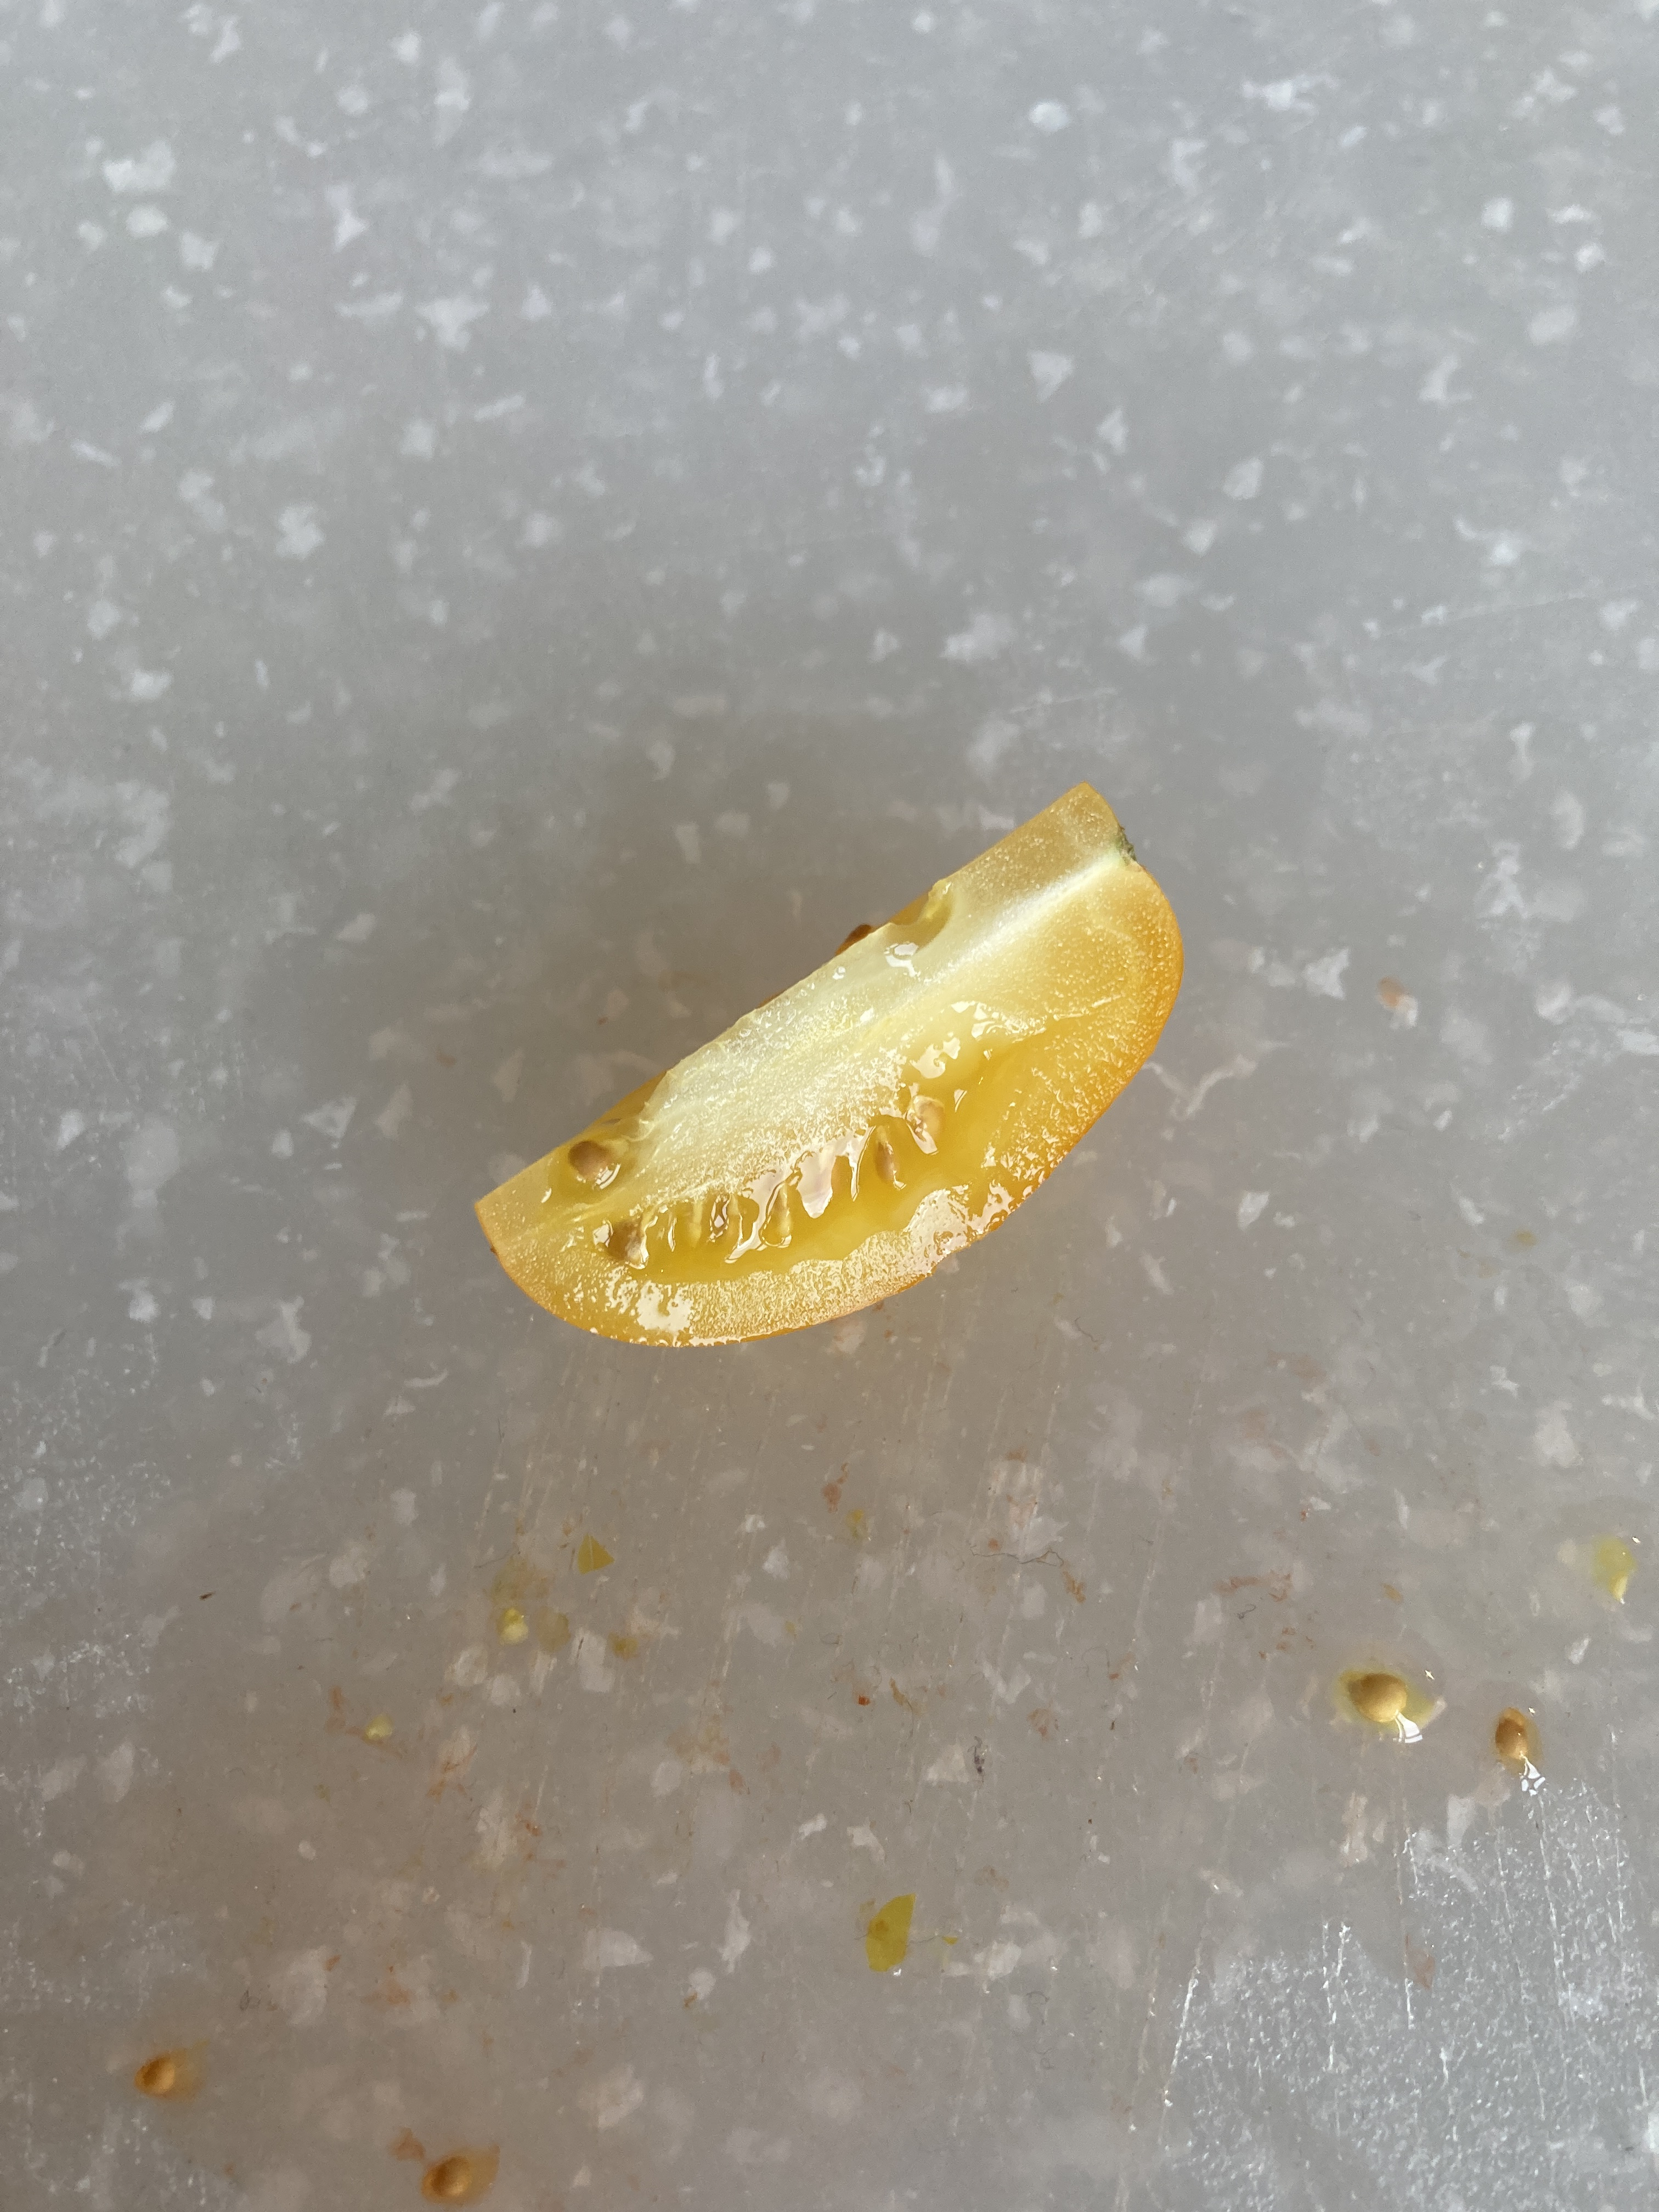healthy-tomato: (471, 782, 1185, 1352)
